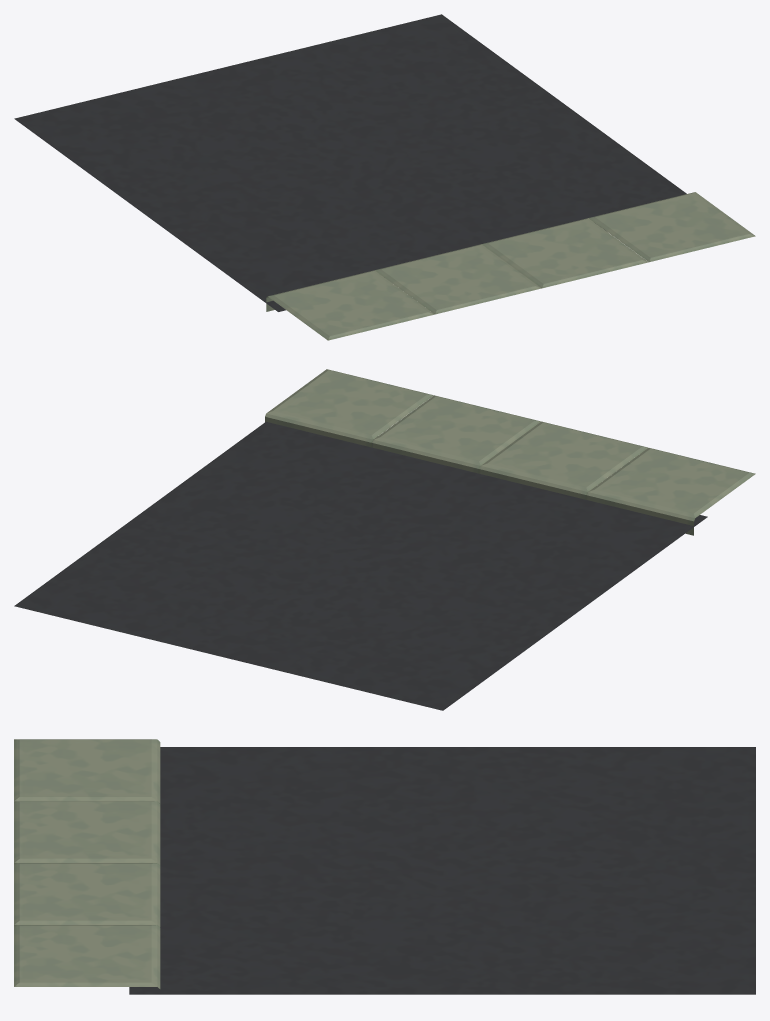
File: RoadOneSided.fbx
The picture shows the model from 3 angles, top to bottom: view 1: azimuth 30°, elevation 25°; view 2: azimuth 150°, elevation 25°; view 3: azimuth 270°, elevation 25°; orthographic projection. The views are drawn at different scales.
Visible parts, largest first — view 1: RoadTile, SidewalkStraight; view 2: RoadTile, SidewalkStraight; view 3: RoadTile, SidewalkStraight.
Boxes of the visible parts, <box> form: RoadTile: <box>14,14,686,311</box>; SidewalkStraight: <box>266,192,755,340</box>; RoadTile: <box>14,421,707,710</box>; SidewalkStraight: <box>265,369,755,535</box>; RoadTile: <box>129,747,755,994</box>; SidewalkStraight: <box>14,739,160,988</box>.
Bounding box in the file's own units: 802 × 32.62 × 1014.
